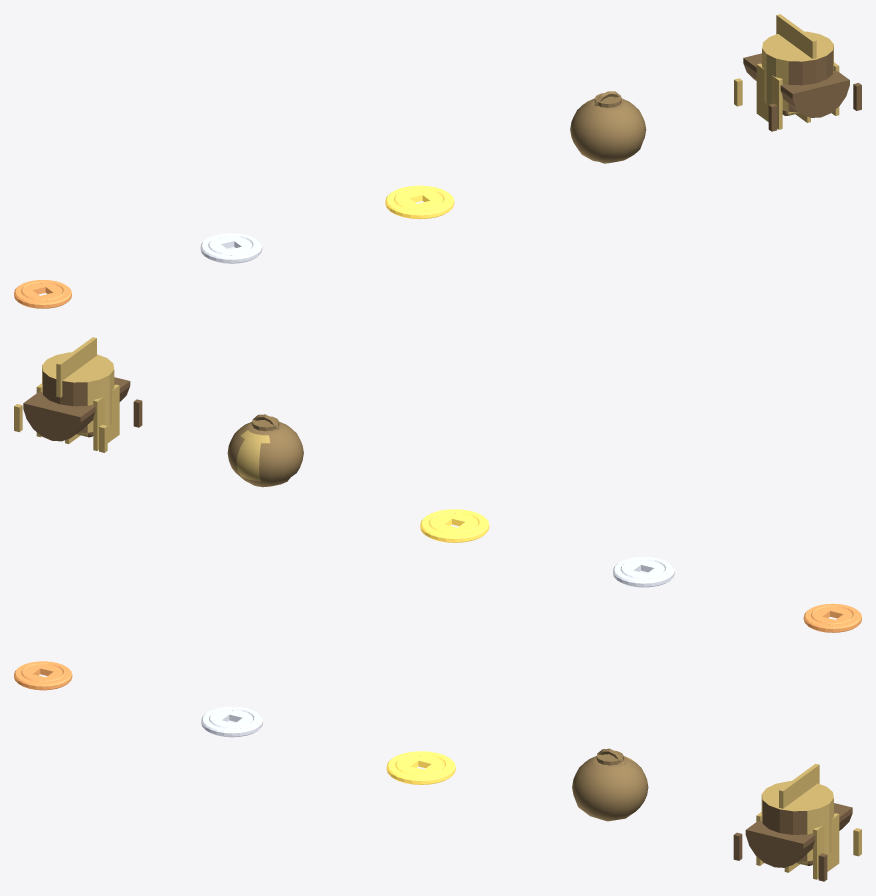
Rendered from treasures.glb.
3 views of the same model, one above another, from view 1: azimuth 30°, elevation 25°; view 2: azimuth 150°, elevation 25°; view 3: azimuth 330°, elevation 25° (orthographic).
Parts seen in each view (by area): view 1: chest, bag, gold, silver, copper; view 2: chest, bag, gold, silver, copper; view 3: chest, bag, gold, silver, copper.
Part boxes in pixels (box(x1,y1,x2,y2)): chest: box(734, 14, 861, 131); bag: box(570, 91, 646, 163); gold: box(385, 185, 454, 219); silver: box(200, 233, 262, 263); copper: box(14, 280, 71, 308); chest: box(14, 337, 142, 452); bag: box(227, 414, 303, 487); gold: box(420, 509, 489, 542); silver: box(613, 557, 674, 587); copper: box(803, 603, 861, 632); chest: box(733, 763, 861, 881); bag: box(572, 748, 648, 821); gold: box(386, 751, 455, 784); silver: box(201, 706, 262, 737); copper: box(14, 661, 72, 690).
Size of the model in its own units: 5.25 by 0.52 by 0.545.
